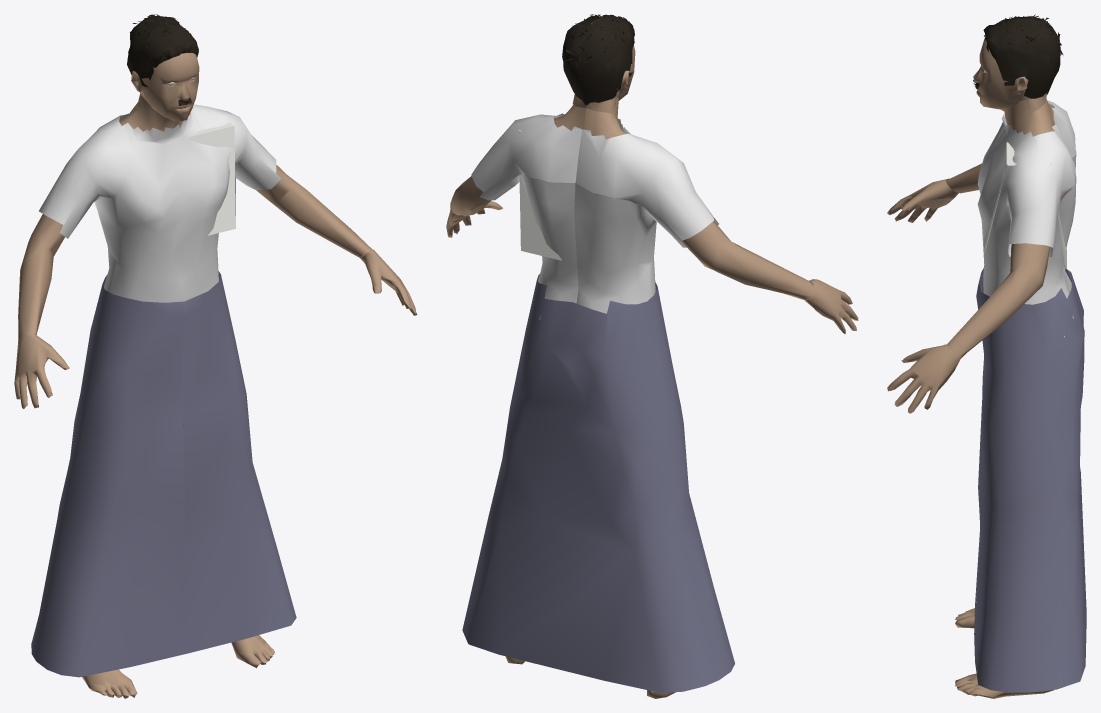
Rendered from man_02.glb.
3 renders of one model, left to right at view 1: azimuth 30°, elevation 25°; view 2: azimuth 150°, elevation 25°; view 3: azimuth 270°, elevation 25°, orthographic. The views are drawn at different scales.
Visible parts, largest first — view 1: crowd; view 2: crowd; view 3: crowd.
Part boxes in pixels (left/top/right/bottom): crowd: left=14, top=14, right=417, bottom=698; crowd: left=446, top=14, right=858, bottom=698; crowd: left=887, top=14, right=1086, bottom=698.
Size of the model in its own units: 1.2 by 1.87 by 0.5296.
